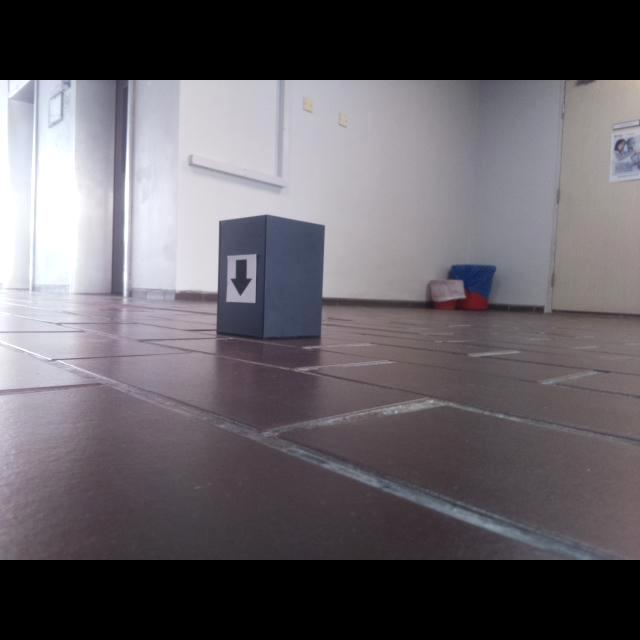DOWN: (229, 259, 253, 297)
